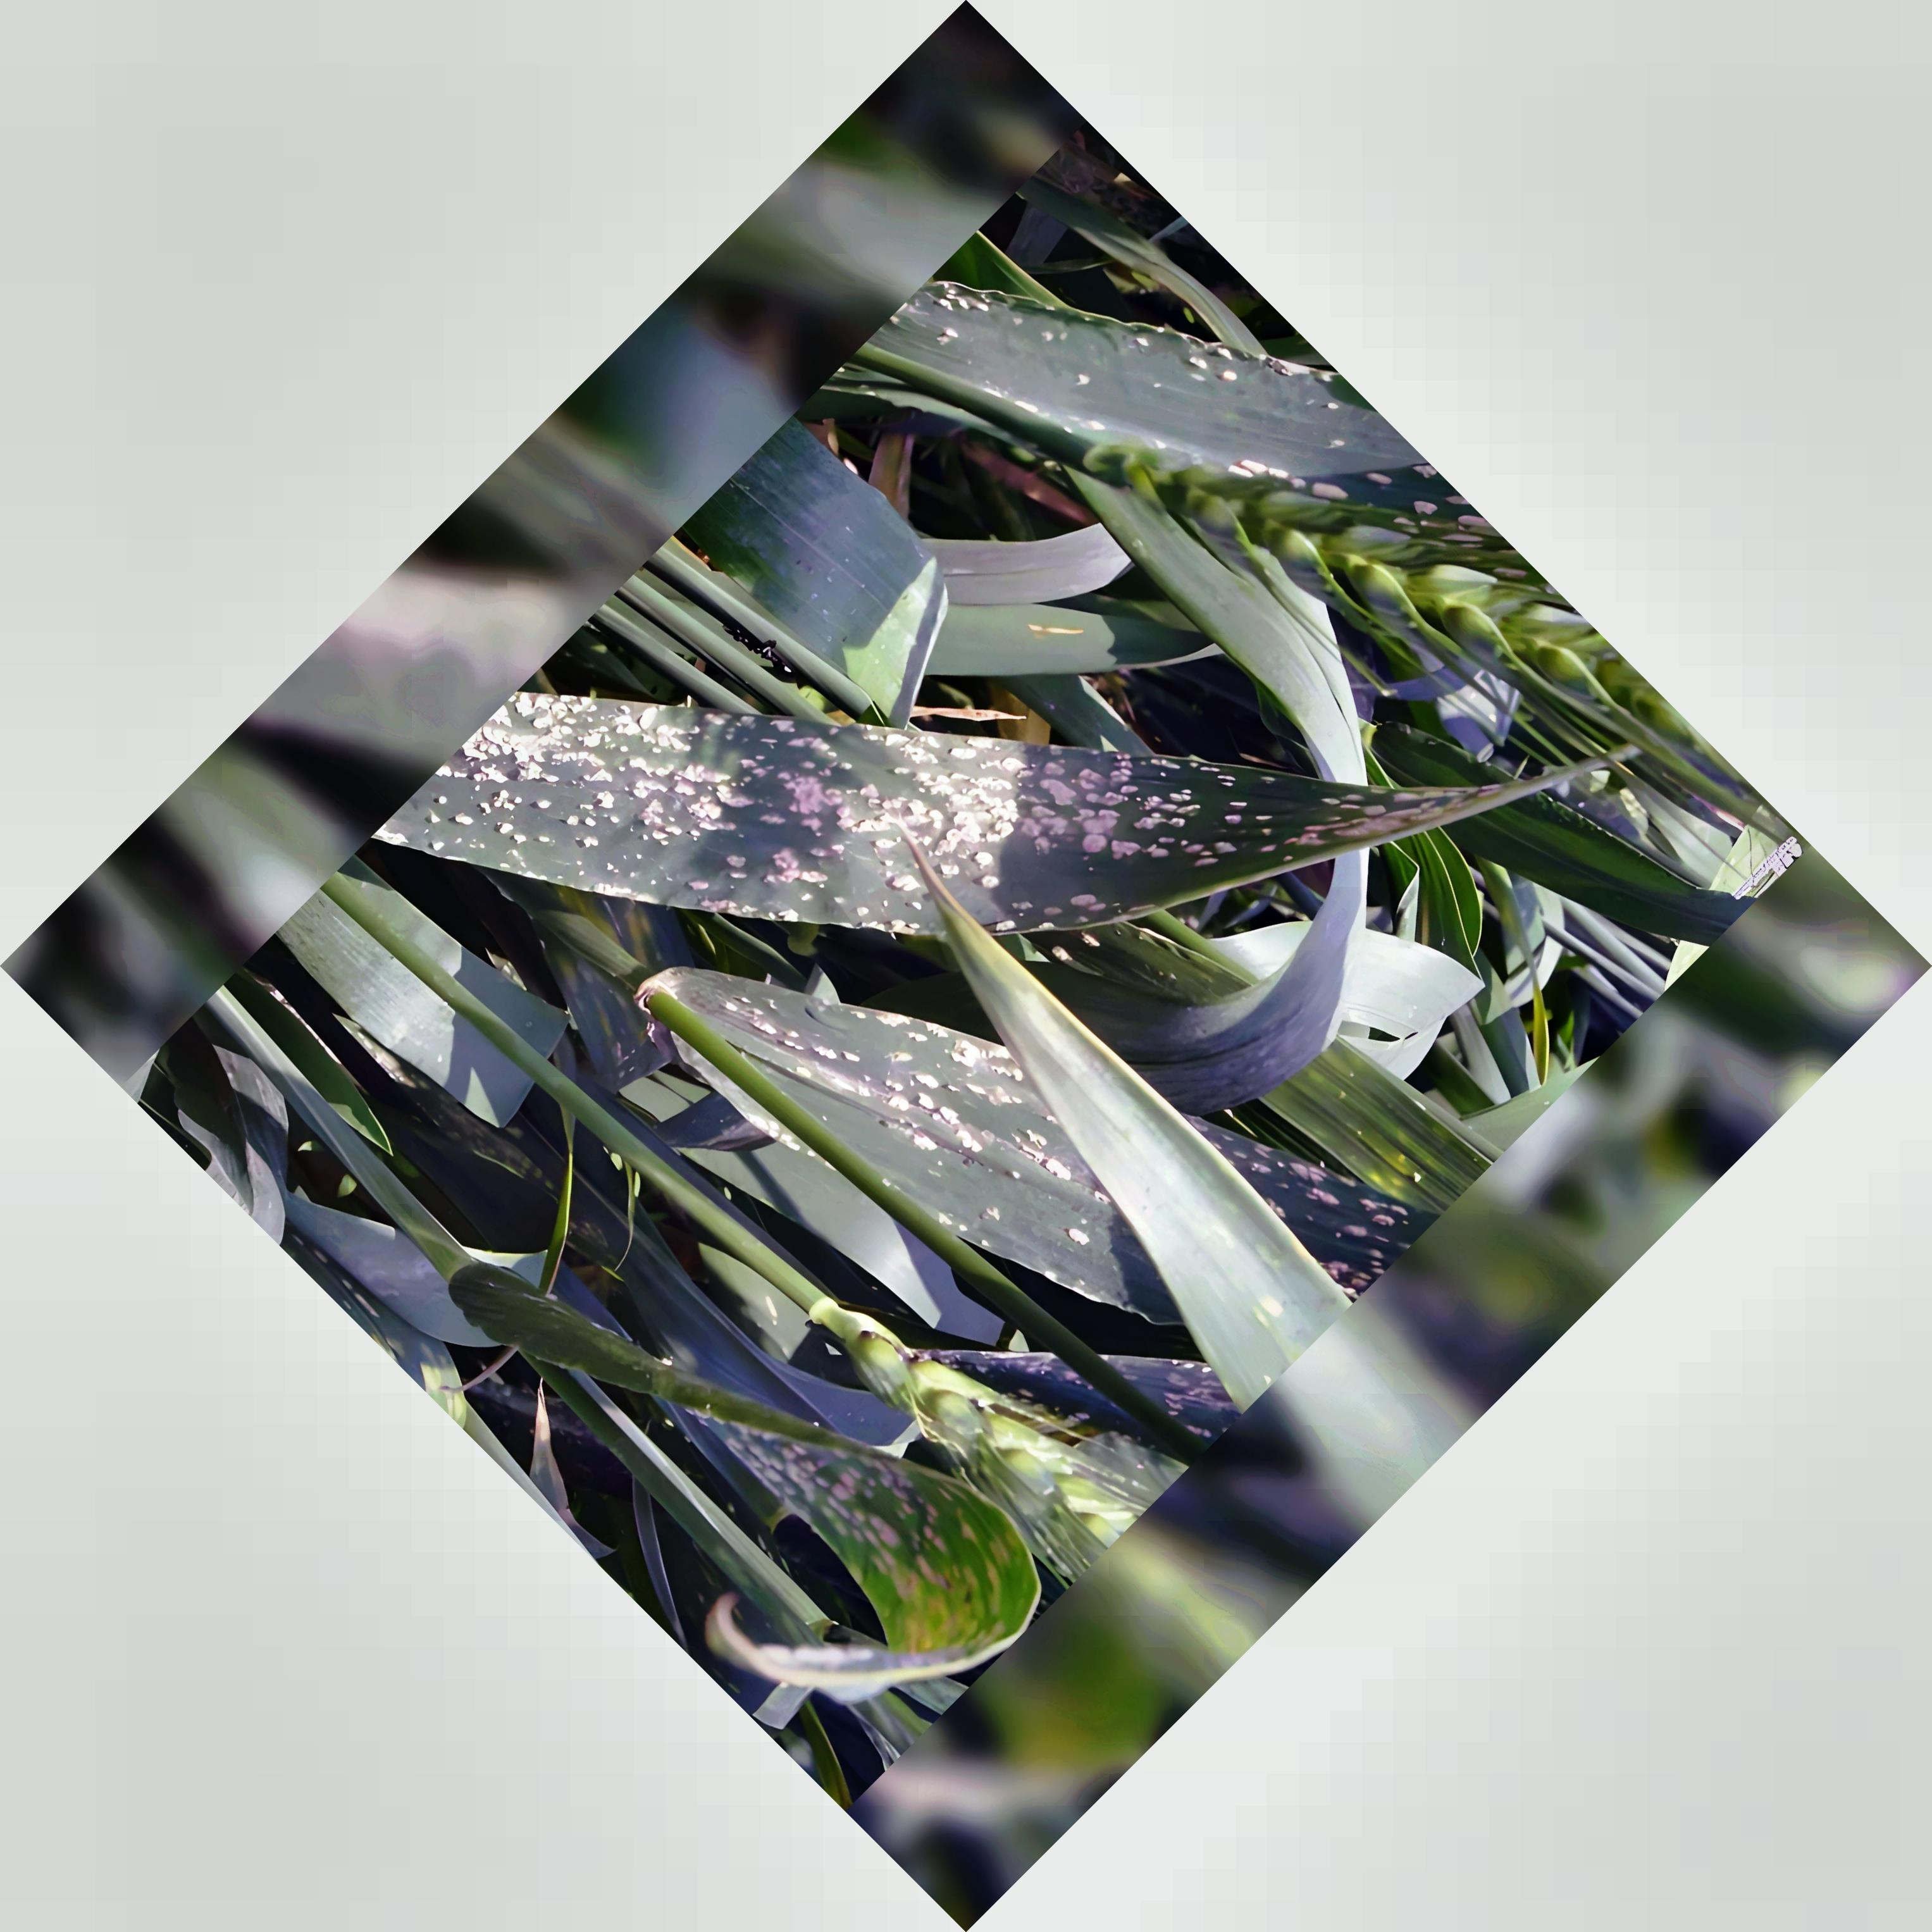Powdery Mildew: (478, 704, 1368, 913)
